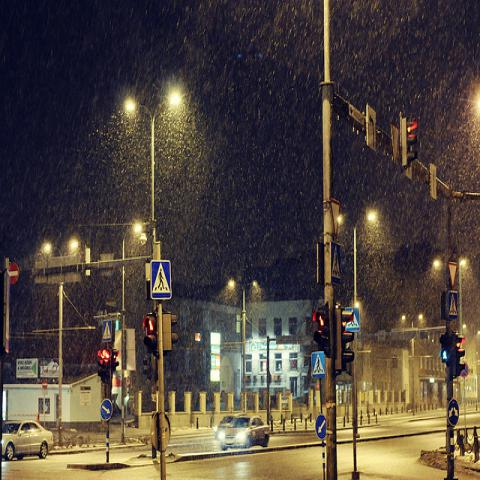car: (218, 412, 271, 452), (1, 421, 54, 460), (214, 414, 238, 438)
